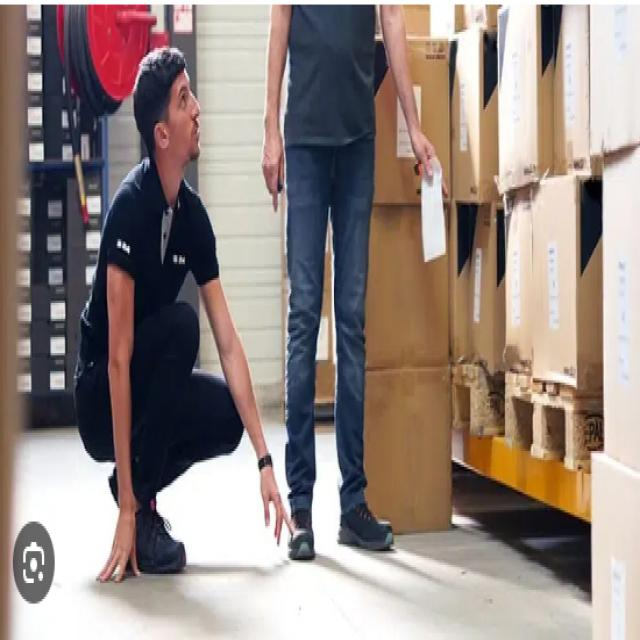shoes: (108, 461, 192, 582), (282, 482, 396, 566)
